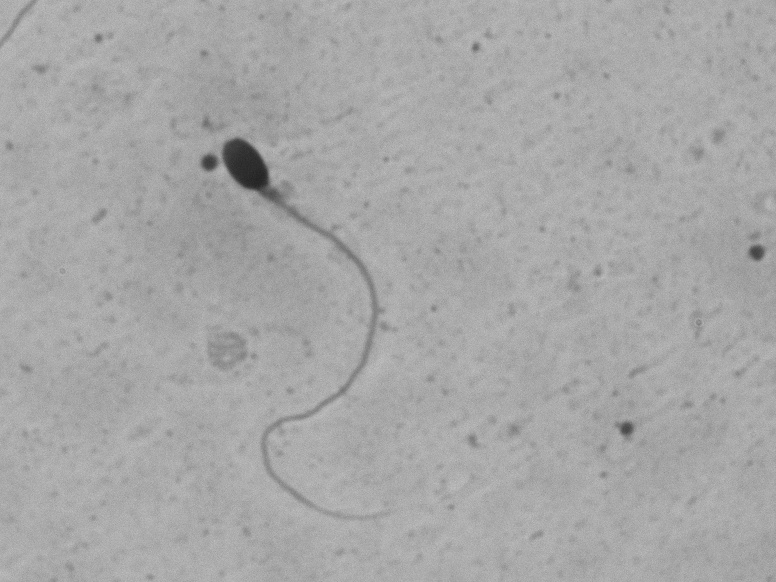Normal: (215, 120, 397, 538)
